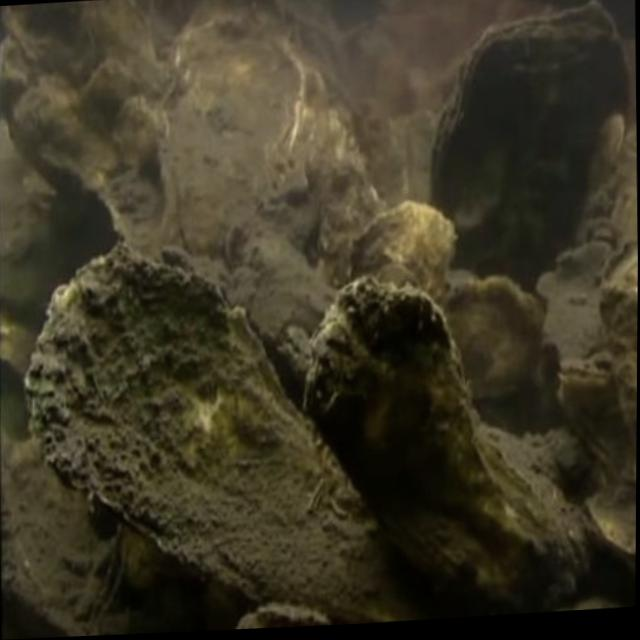Oyster-Closed: (434, 0, 630, 284), (558, 358, 609, 393)
Oyster-Indeterminate: (34, 248, 375, 607), (307, 279, 575, 616), (171, 31, 304, 255), (448, 278, 549, 396), (350, 206, 455, 284), (580, 482, 636, 570)
